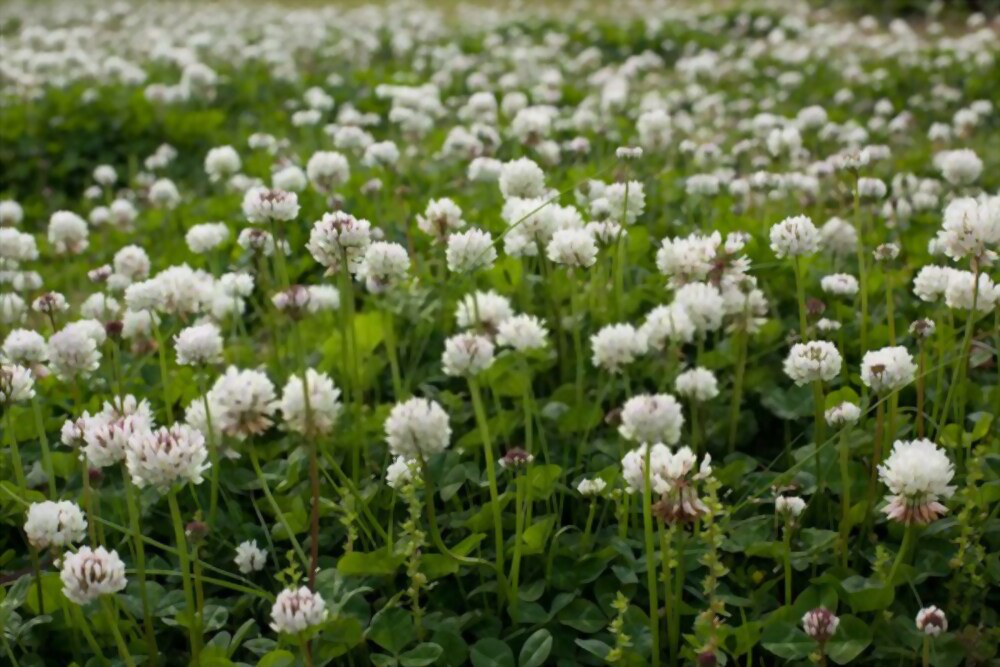clover: (5, 57, 997, 661)
